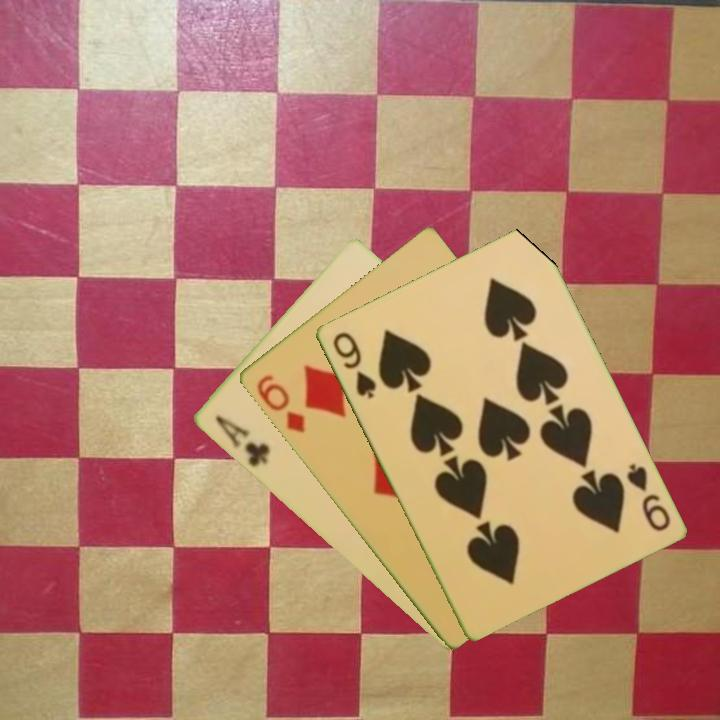6d: (252, 371, 308, 436)
9s: (622, 459, 673, 534), (328, 328, 379, 402)
Ac: (210, 412, 273, 470)
